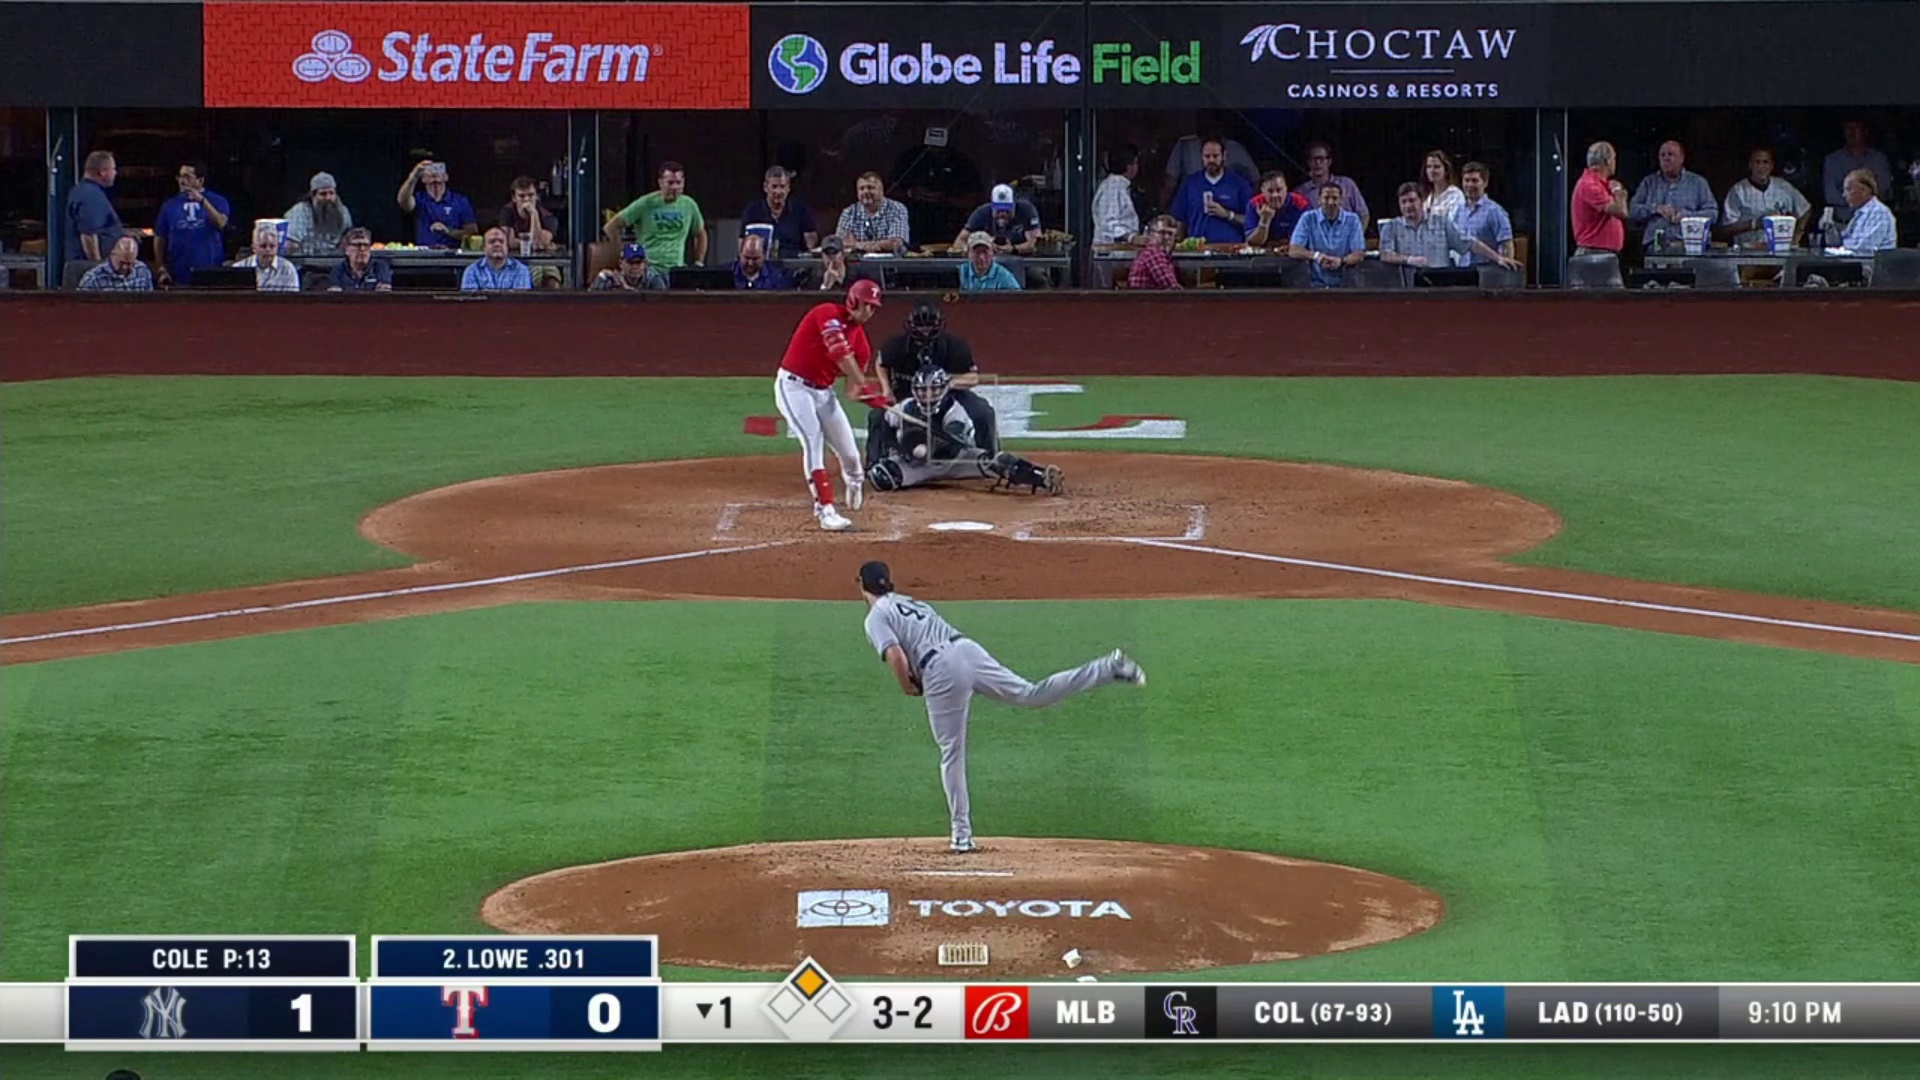baseball: (913, 443, 926, 458)
